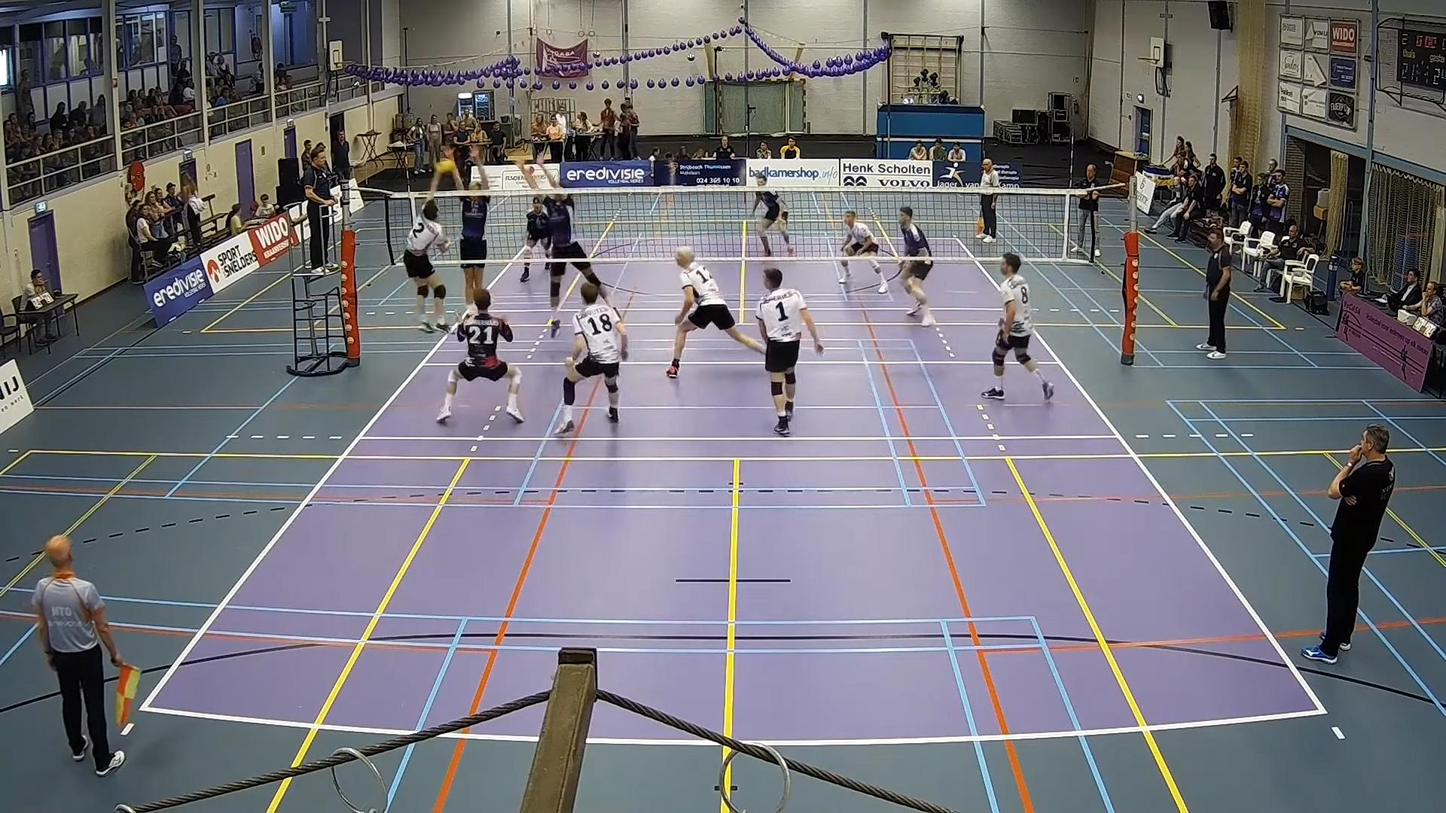Attack: (393, 199, 454, 336)
Block: (512, 158, 622, 334), (447, 146, 494, 321)
Player: (667, 247, 764, 378), (437, 288, 523, 422), (756, 267, 824, 435), (555, 282, 627, 434), (981, 252, 1054, 400), (899, 206, 935, 325), (843, 211, 887, 294), (751, 174, 793, 255), (520, 196, 550, 282)
ball: (428, 162, 458, 178)
